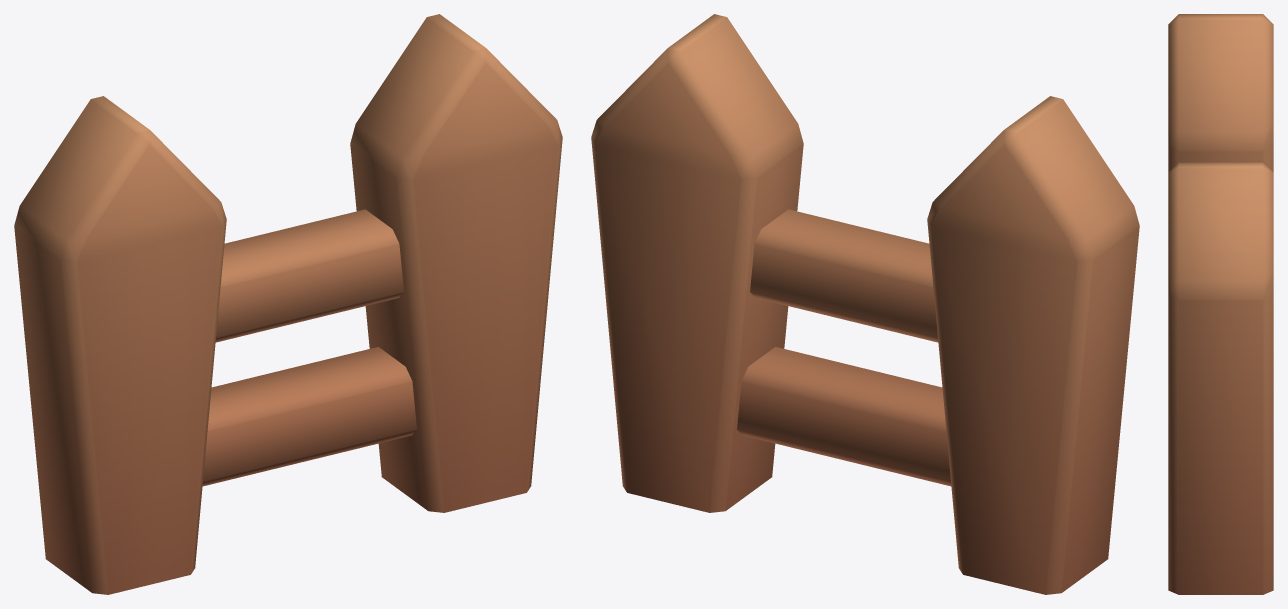
Rendered from fence_straight.gltf.
The picture shows the model from 3 angles, left to right: view 1: azimuth 30°, elevation 25°; view 2: azimuth 150°, elevation 25°; view 3: azimuth 270°, elevation 25°; orthographic projection. The views are drawn at different scales.
Visible parts, largest first — view 1: fence_straight; view 2: fence_straight; view 3: fence_straight.
Part boxes in pixels (left/top/right/bottom): fence_straight: left=14, top=14, right=562, bottom=594; fence_straight: left=591, top=14, right=1139, bottom=594; fence_straight: left=1168, top=14, right=1273, bottom=594.
Size of the model in its own units: 1.49 by 1.28 by 0.3.
Materials: 1 (1 with a texture image).
